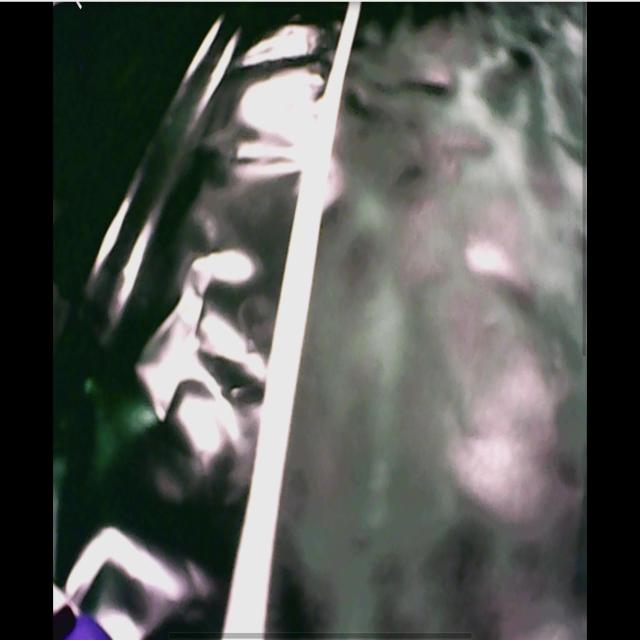ball: (70, 617, 113, 640)
